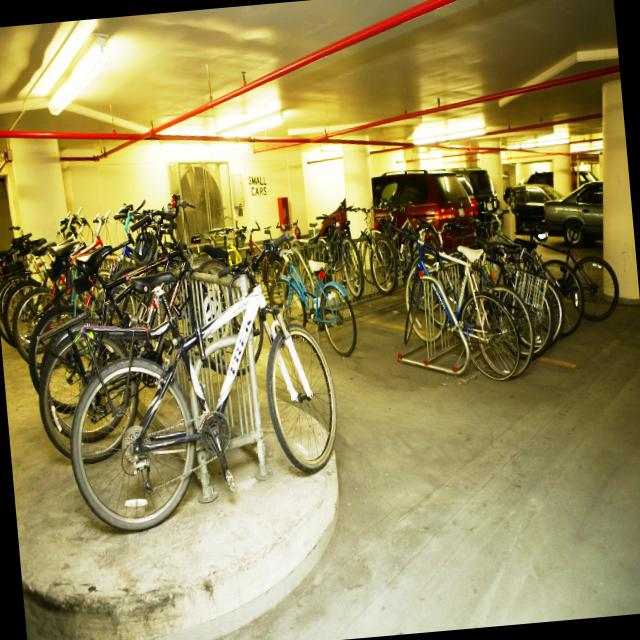bike: (52, 232, 344, 536), (20, 186, 276, 466), (384, 206, 524, 390), (398, 209, 540, 386), (262, 223, 358, 363)
